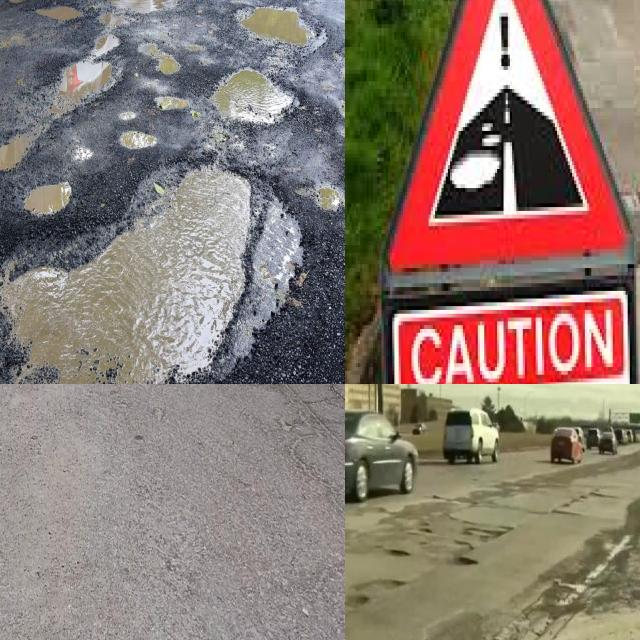Pothole: (3, 170, 302, 384), (0, 60, 114, 172), (214, 70, 290, 120), (345, 579, 406, 607), (457, 557, 478, 565), (388, 550, 410, 556), (420, 528, 432, 532)
